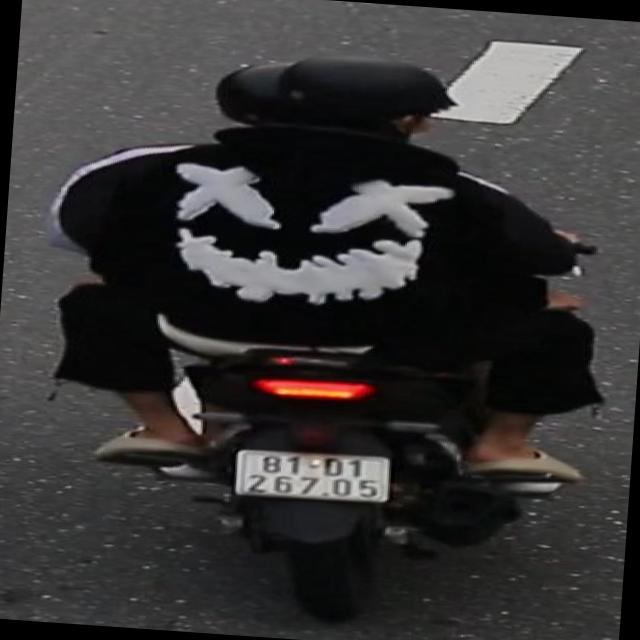LP: (224, 443, 398, 511)
helmet: (292, 42, 456, 152), (207, 40, 306, 134)
